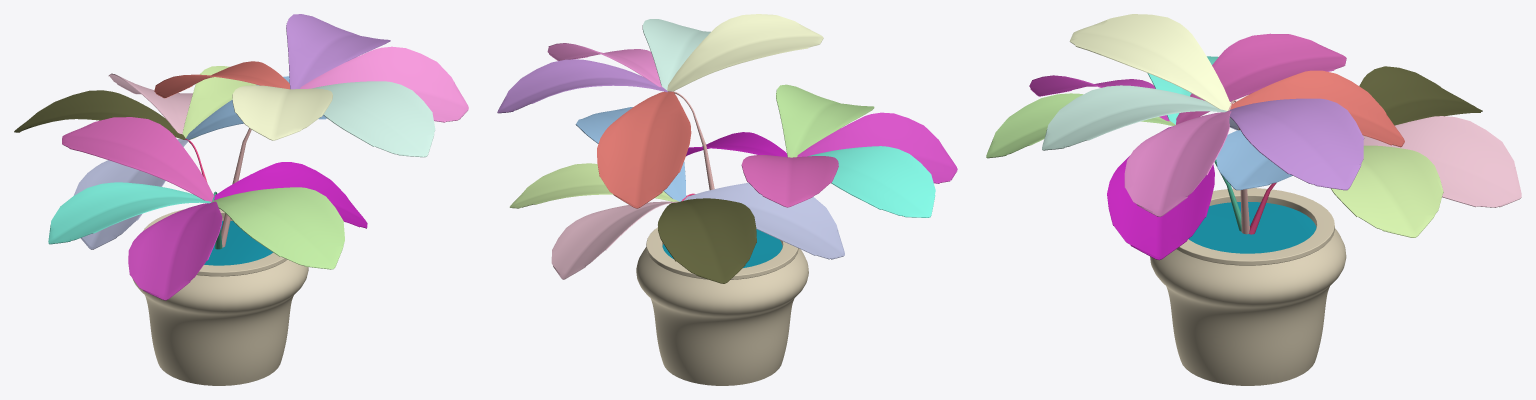
The picture shows the model from 3 angles, left to right: view 1: azimuth 30°, elevation 25°; view 2: azimuth 150°, elevation 25°; view 3: azimuth 270°, elevation 25°; orthographic projection. The views are drawn at different scales.
Visible parts, largest first — view 1: geo_Pot_m_Plant_0, split_parent_6, split_parent_4, split_parent_7, split_parent_10, split_parent_3, split_parent_11, split_parent_5, split_parent_0, split_parent_17, split_parent_8, split_parent_14 (+6 smaller); view 2: geo_Pot_m_Plant_0, split_parent_1, split_parent_17, split_parent_11, split_parent_0, split_parent_14, split_parent_7, split_parent_5, split_parent_10, split_parent_16, split_parent_6, split_parent_13 (+6 smaller); view 3: geo_Pot_m_Plant_0, split_parent_5, split_parent_16, split_parent_0, split_parent_13, split_parent_3, split_parent_4, split_parent_10, split_parent_8, geo_Ring_m_Plant_0, split_parent_1, split_parent_17 (+4 smaller).
Boxes of the visible parts, left/top/right/bottom form: geo_Pot_m_Plant_0: left=132, top=208, right=308, bottom=385; split_parent_6: left=211, top=187, right=344, bottom=269; split_parent_4: left=312, top=81, right=435, bottom=157; split_parent_7: left=128, top=201, right=222, bottom=300; split_parent_10: left=62, top=117, right=213, bottom=201; split_parent_3: left=300, top=46, right=468, bottom=122; split_parent_11: left=48, top=182, right=211, bottom=244; split_parent_5: left=286, top=14, right=390, bottom=89; split_parent_0: left=232, top=85, right=332, bottom=140; split_parent_17: left=14, top=90, right=185, bottom=139; split_parent_8: left=214, top=162, right=367, bottom=228; split_parent_14: left=73, top=139, right=188, bottom=249; geo_Pot_m_Plant_0: left=636, top=227, right=808, bottom=385; split_parent_1: left=597, top=91, right=691, bottom=208; split_parent_17: left=658, top=198, right=756, bottom=283; split_parent_11: left=808, top=146, right=935, bottom=217; split_parent_0: left=667, top=14, right=823, bottom=91; split_parent_14: left=683, top=183, right=844, bottom=259; split_parent_7: left=797, top=112, right=957, bottom=183; split_parent_5: left=497, top=59, right=667, bottom=113; split_parent_10: left=741, top=155, right=838, bottom=207; split_parent_16: left=551, top=201, right=679, bottom=279; split_parent_6: left=776, top=84, right=874, bottom=157; split_parent_13: left=509, top=163, right=678, bottom=208; geo_Pot_m_Plant_0: left=1150, top=188, right=1346, bottom=385; split_parent_5: left=1227, top=98, right=1364, bottom=190; split_parent_16: left=1363, top=116, right=1521, bottom=207; split_parent_0: left=1069, top=14, right=1230, bottom=110; split_parent_13: left=1331, top=145, right=1443, bottom=237; split_parent_3: left=1124, top=111, right=1231, bottom=216; split_parent_4: left=1042, top=85, right=1227, bottom=150; split_parent_10: left=1176, top=33, right=1346, bottom=124; split_parent_8: left=1107, top=126, right=1214, bottom=260; geo_Ring_m_Plant_0: left=1189, top=202, right=1316, bottom=253; split_parent_1: left=1230, top=70, right=1404, bottom=147; split_parent_17: left=1359, top=66, right=1482, bottom=125.
Bounding box in the file's own units: 0.9538 × 0.6744 × 1.
